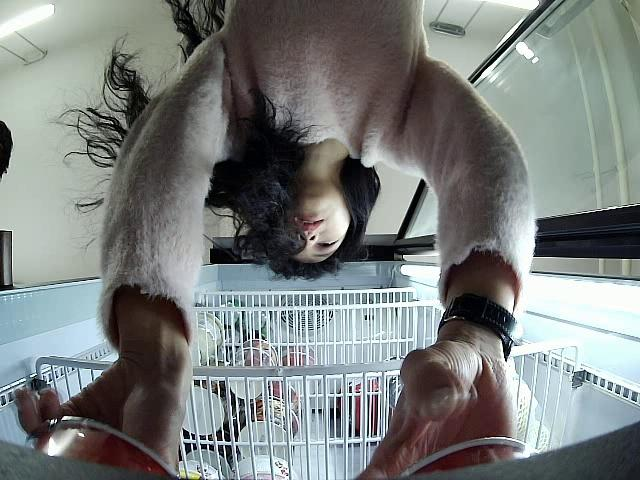00_hand: (347, 339, 518, 480), (15, 347, 192, 474)
